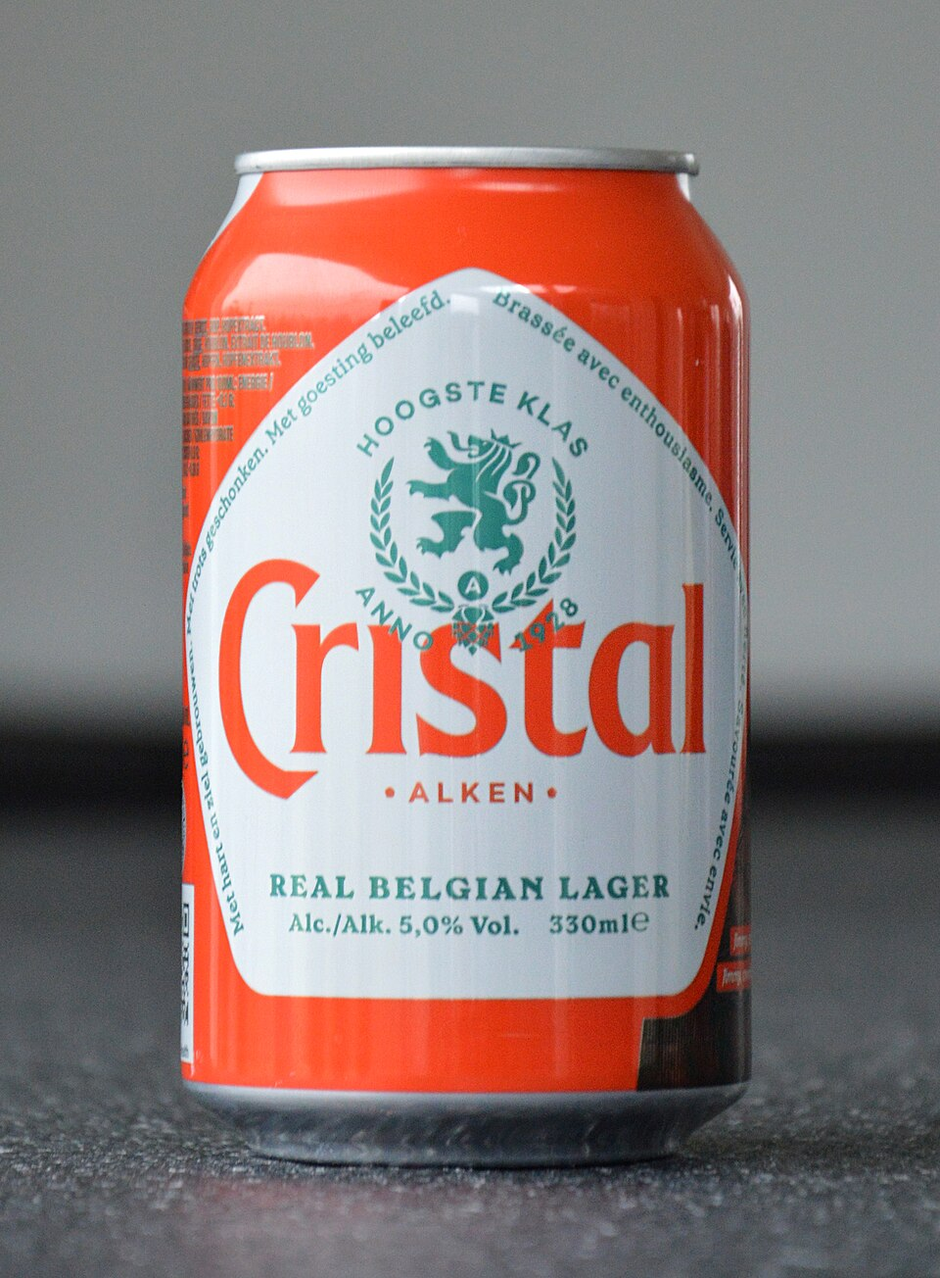beer-can: (177, 133, 757, 1196)
